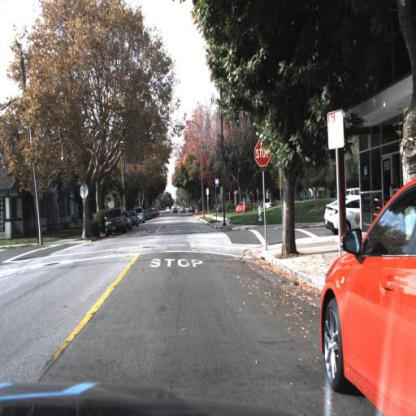car: (320, 179, 366, 240), (104, 206, 129, 238), (235, 199, 255, 217), (263, 195, 279, 213), (235, 199, 253, 213), (131, 211, 140, 229), (346, 189, 363, 198), (124, 212, 131, 231), (266, 197, 276, 210), (139, 207, 147, 223)
